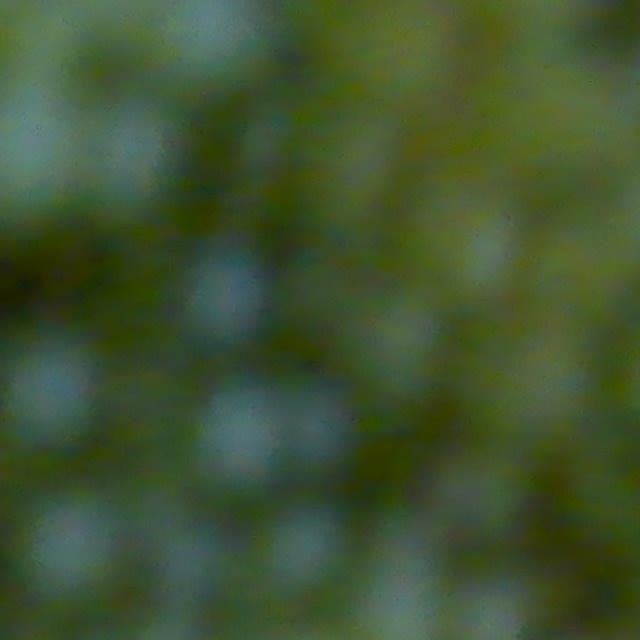SeaGrape: (10, 480, 130, 605), (337, 283, 451, 405), (0, 332, 102, 445), (194, 381, 294, 492), (432, 200, 531, 307), (254, 498, 354, 599), (178, 243, 274, 345), (151, 518, 238, 604), (449, 571, 543, 640), (280, 388, 356, 472)
